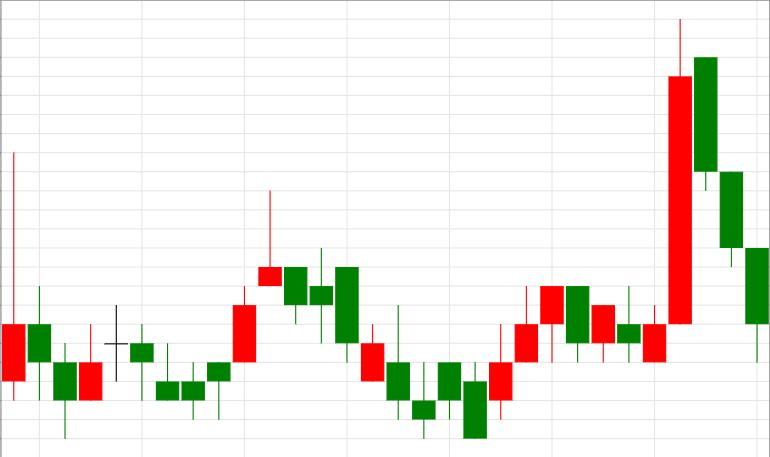three_black_crows_fall: (618, 19, 769, 363)
three_white_soldiers_rise: (285, 246, 564, 438)
